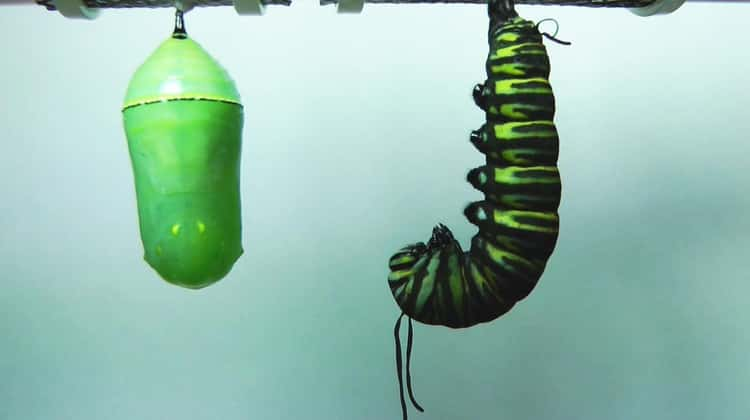Caterpillar: (388, 3, 565, 416)
